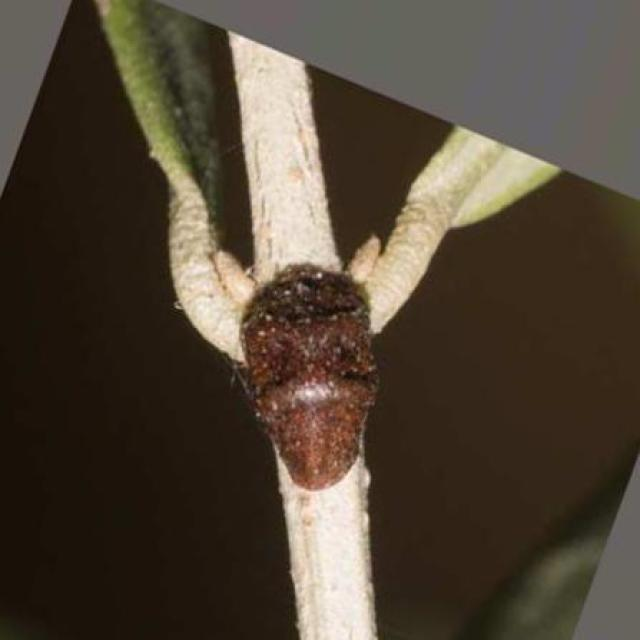Black Scale: (238, 265, 378, 491)
